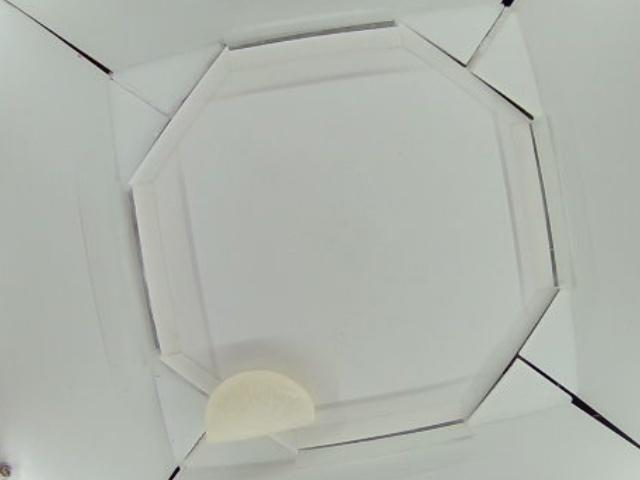Mooli: (207, 370, 316, 442)
